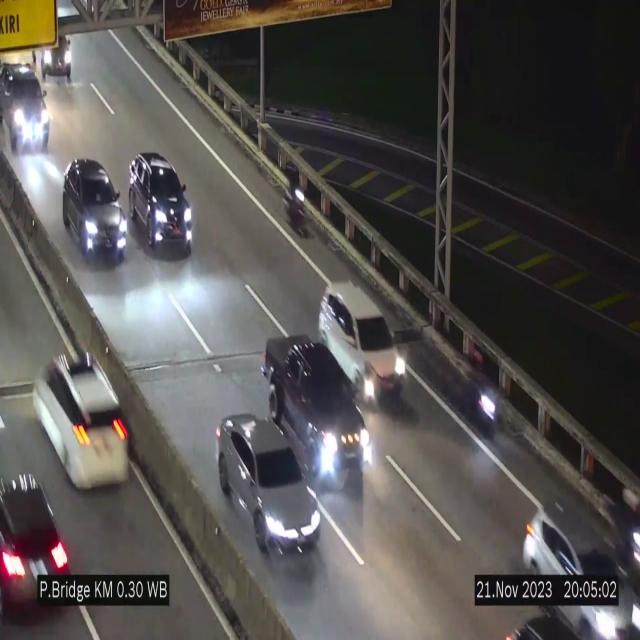Car: (265, 338, 373, 490), (216, 415, 321, 563), (319, 282, 407, 409), (129, 153, 193, 255), (62, 159, 126, 259), (0, 62, 58, 153)
Motorcycle: (468, 347, 500, 441), (284, 162, 308, 239)
